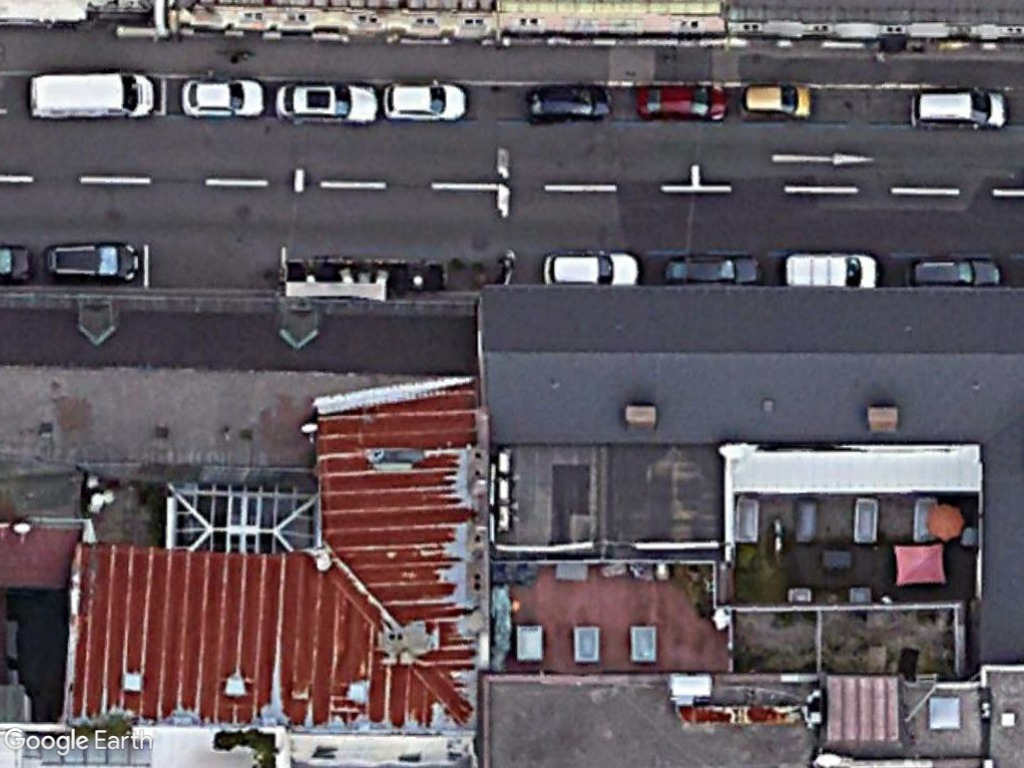car: (270, 80, 385, 129), (908, 87, 1011, 135), (174, 74, 271, 122), (537, 249, 642, 293), (39, 241, 143, 285), (520, 80, 617, 125), (635, 80, 730, 124), (379, 80, 474, 123), (736, 80, 816, 121)
van: (24, 71, 157, 122), (776, 247, 883, 294)
